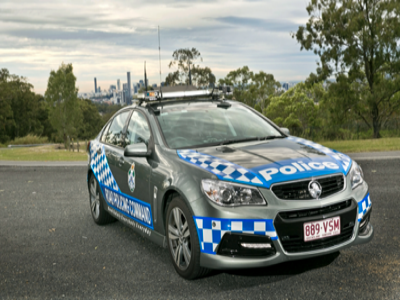licence: (303, 215, 340, 244)
